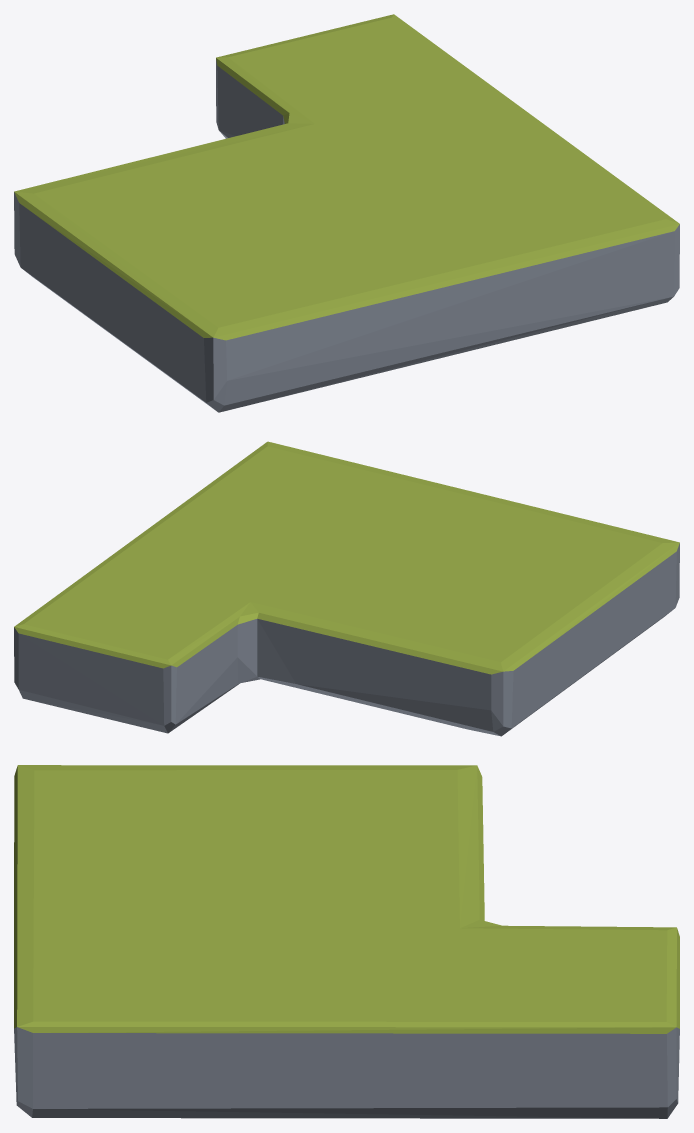
Rendered from Horizontal Platform 3.fbx.
The picture shows the model from 3 angles, top to bottom: view 1: azimuth 30°, elevation 25°; view 2: azimuth 150°, elevation 25°; view 3: azimuth 270°, elevation 25°; orthographic projection. The views are drawn at different scales.
Parts seen in each view (by area): view 1: Cube.009; view 2: Cube.009; view 3: Cube.009.
Boxes of the visible parts, x1,y1,x2,y2 form: Cube.009: (14, 14, 679, 412); Cube.009: (14, 441, 679, 736); Cube.009: (14, 765, 679, 1118).
Size of the model in its own units: 2281 by 397 by 2425.
